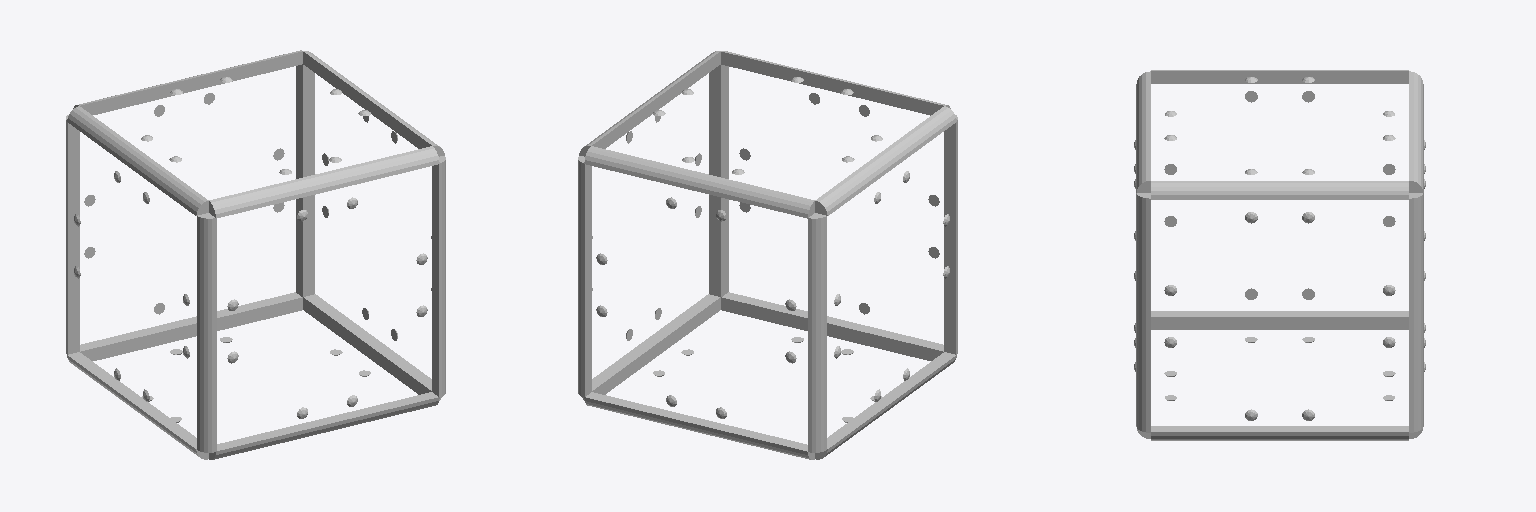
The model's file is game_cube_sides_.obj.
3 renders of one model, left to right at view 1: azimuth 30°, elevation 25°; view 2: azimuth 150°, elevation 25°; view 3: azimuth 270°, elevation 25°, orthographic.
Visible parts, largest first — view 1: Cylinder010, Cylinder001, Cylinder005, Cylinder011, Cylinder003, Cylinder008, Cylinder012, Cylinder007, Cylinder002, Cylinder009, Cylinder006, Cylinder004; view 2: Cylinder002, Cylinder009, Cylinder012, Cylinder008, Cylinder003, Cylinder005, Cylinder011, Cylinder007, Cylinder001, Cylinder010, Cylinder006, Cylinder004; view 3: Cylinder004, Cylinder006, Cylinder007, Cylinder011, Cylinder012, Cylinder003, Cylinder002, Cylinder001.
Part boxes in pixels (bbox=[...]): Cylinder010: bbox=[197, 213, 216, 452]; Cylinder001: bbox=[209, 146, 439, 217]; Cylinder005: bbox=[80, 292, 302, 360]; Cylinder011: bbox=[296, 64, 314, 296]; Cylinder003: bbox=[67, 106, 208, 215]; Cylinder008: bbox=[209, 392, 439, 459]; Cylinder012: bbox=[432, 156, 445, 396]; Cylinder007: bbox=[303, 294, 441, 400]; Cylinder002: bbox=[73, 50, 302, 114]; Cylinder009: bbox=[66, 115, 79, 354]; Cylinder006: bbox=[67, 352, 208, 459]; Cylinder004: bbox=[303, 51, 444, 156]; Cylinder002: bbox=[584, 146, 814, 218]; Cylinder009: bbox=[808, 213, 826, 452]; Cylinder012: bbox=[709, 65, 728, 296]; Cylinder008: bbox=[721, 292, 943, 360]; Cylinder003: bbox=[815, 106, 956, 215]; Cylinder005: bbox=[584, 392, 814, 459]; Cylinder011: bbox=[578, 156, 591, 396]; Cylinder007: bbox=[582, 294, 720, 400]; Cylinder001: bbox=[721, 51, 950, 115]; Cylinder010: bbox=[944, 115, 957, 354]; Cylinder006: bbox=[815, 352, 956, 459]; Cylinder004: bbox=[579, 51, 720, 156]; Cylinder004: bbox=[1151, 181, 1408, 199]; Cylinder006: bbox=[1151, 311, 1408, 329]; Cylinder007: bbox=[1151, 426, 1408, 440]; Cylinder011: bbox=[1409, 193, 1423, 432]; Cylinder012: bbox=[1136, 193, 1150, 432]; Cylinder003: bbox=[1151, 70, 1408, 83]; Cylinder002: bbox=[1409, 71, 1423, 192]; Cylinder001: bbox=[1136, 71, 1150, 193].
Size of the model in its own units: 1.01 by 1.01 by 1.01.